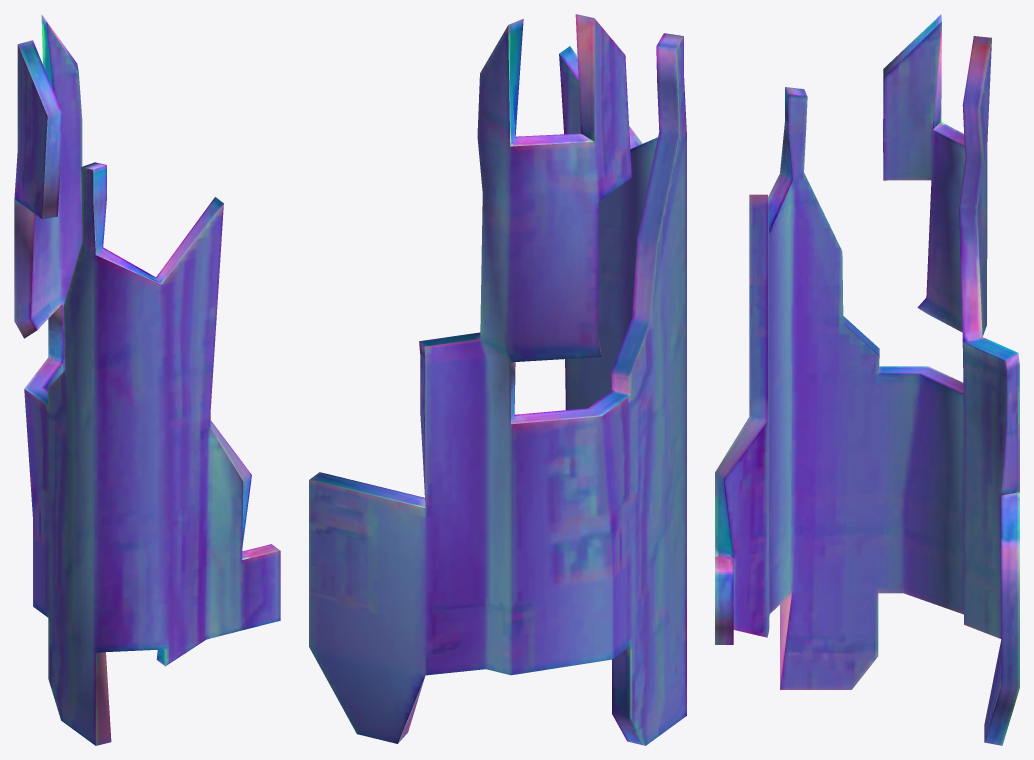
File: debris_01_07.glb
3 renders of one model, left to right at view 1: azimuth 30°, elevation 25°; view 2: azimuth 150°, elevation 25°; view 3: azimuth 270°, elevation 25°, orthographic. The views are drawn at different scales.
Parts seen in each view (by area): view 1: debris_01_07; view 2: debris_01_07; view 3: debris_01_07.
Boxes of the visible parts, x1,y1,x2,y2 form: debris_01_07: (14, 14, 280, 745); debris_01_07: (309, 14, 686, 745); debris_01_07: (715, 14, 1019, 745).
Size of the model in its own units: 0.7007 by 2.1 by 0.8669.
Materials: 1 (1 with a texture image).
